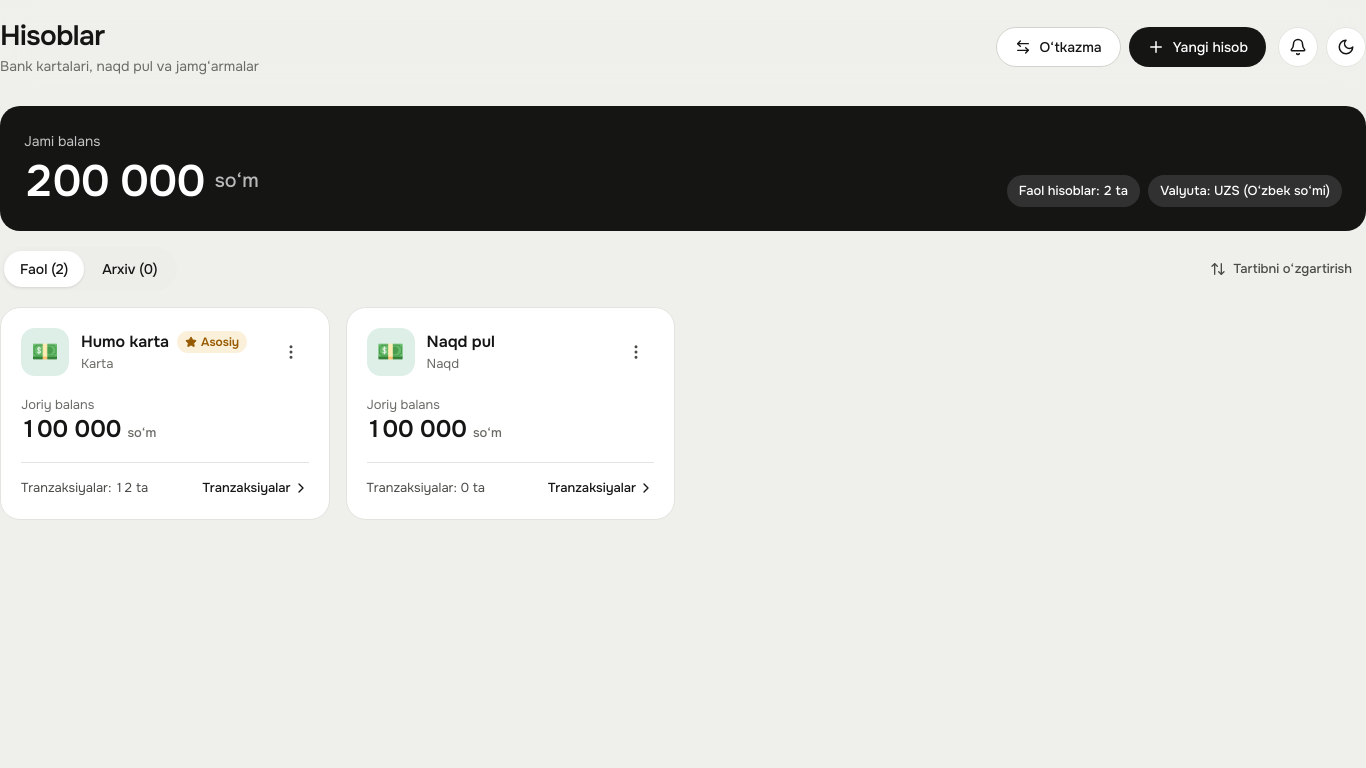
it: AccountsPage › turns a refused delete into the archive advice
The width and height of the screenshot is (1366, 768).
Expected: the text "Naqd pul" is shown, [426,331,498,353]
Click the 2nd button named "Amallar": (636, 352) [618,334,654,370]
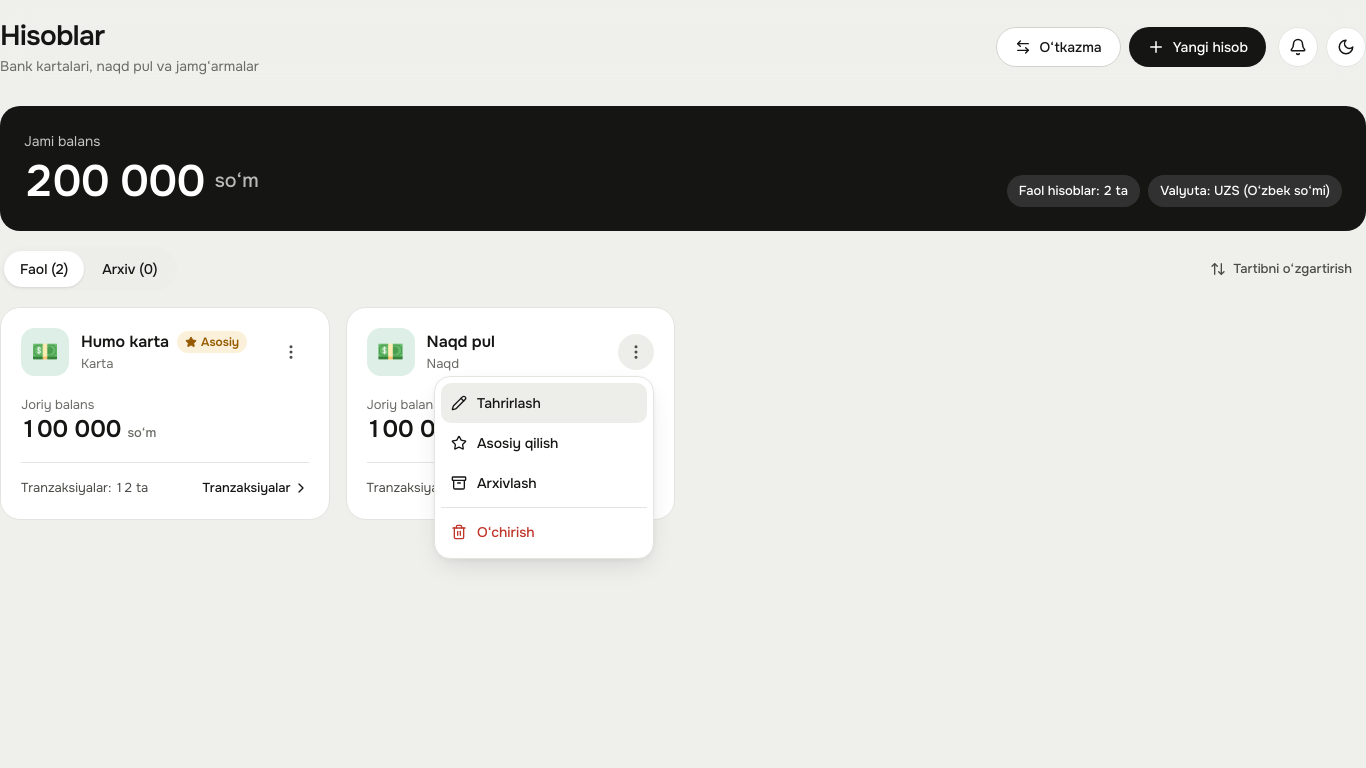
Click the menu item "O‘chirish": (544, 532) [441,512,647,552]
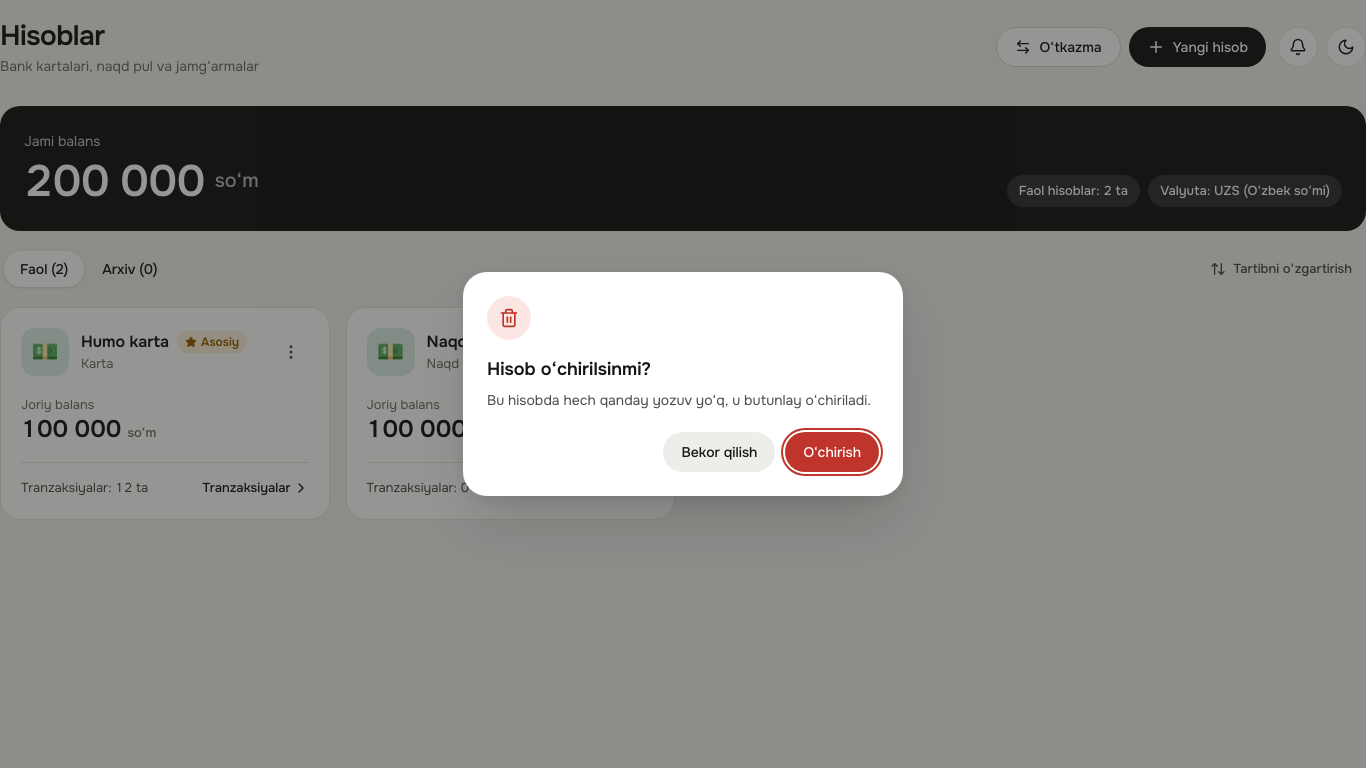
Click the button "O‘chirish": (832, 452) [785,432,879,472]
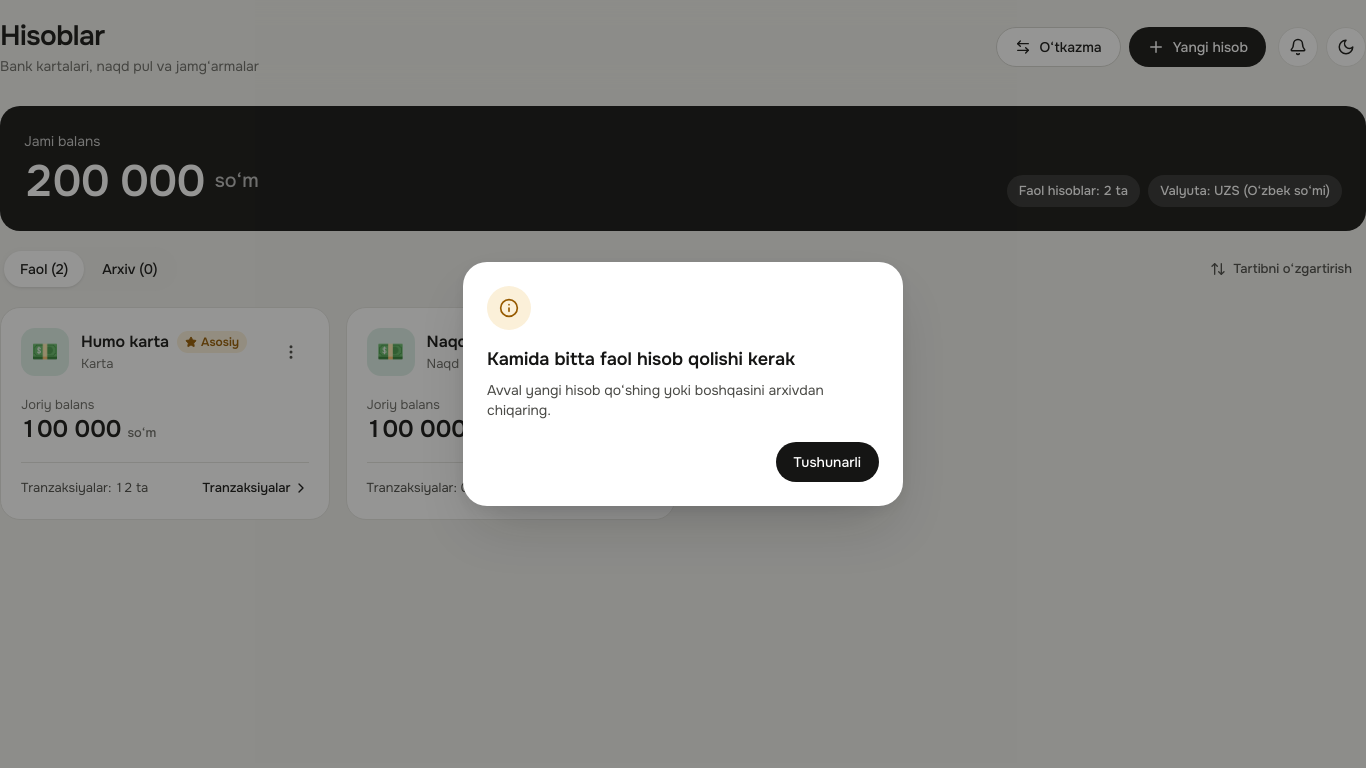
Expected: the dialog shows "Kamida bitta faol hisob qolishi kerak", [487,348,795,370]
